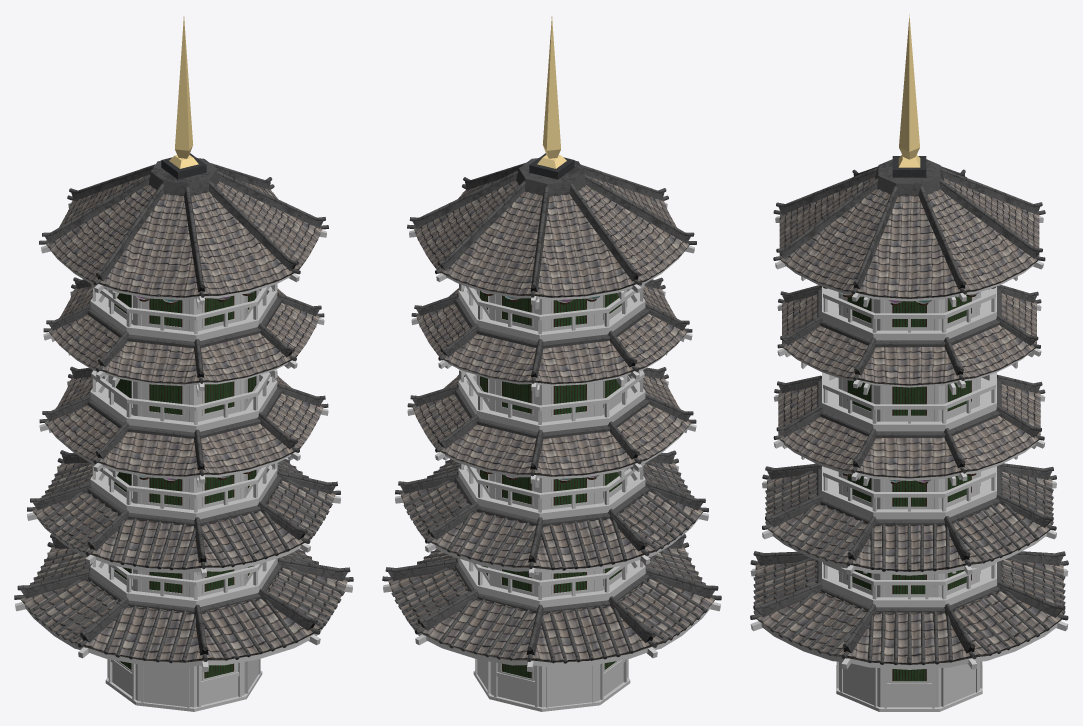
File: bg02_a_build05out.fbx
The picture shows the model from 3 angles, left to right: view 1: azimuth 30°, elevation 25°; view 2: azimuth 150°, elevation 25°; view 3: azimuth 270°, elevation 25°; orthographic projection.
Parts seen in each view (by area): view 1: set_build05-geom-P7, set_build05-geom-P2, set_build05-geom-P3, set_build05-geom-P4, set_build05-geom-P5, set_build05-geom-P8, set_build05-geom-P6; view 2: set_build05-geom-P7, set_build05-geom-P2, set_build05-geom-P3, set_build05-geom-P4, set_build05-geom-P5, set_build05-geom-P8, set_build05-geom-P6; view 3: set_build05-geom-P7, set_build05-geom-P2, set_build05-geom-P3, set_build05-geom-P4, set_build05-geom-P5, set_build05-geom-P8, set_build05-geom-P6.
Boxes of the visible parts, box(x1,y1,x2,y2) form: set_build05-geom-P7: box(20, 175, 347, 662); set_build05-geom-P2: box(14, 158, 353, 663); set_build05-geom-P3: box(15, 192, 352, 711); set_build05-geom-P4: box(114, 290, 256, 678); set_build05-geom-P5: box(25, 250, 338, 667); set_build05-geom-P8: box(169, 16, 198, 168); set_build05-geom-P6: box(161, 153, 206, 179); set_build05-geom-P7: box(388, 176, 715, 662); set_build05-geom-P2: box(382, 158, 721, 663); set_build05-geom-P3: box(383, 192, 720, 711); set_build05-geom-P4: box(479, 290, 621, 678); set_build05-geom-P5: box(398, 250, 710, 667); set_build05-geom-P8: box(537, 16, 566, 168); set_build05-geom-P6: box(529, 153, 574, 179); set_build05-geom-P7: box(755, 177, 1063, 664); set_build05-geom-P2: box(750, 159, 1068, 665); set_build05-geom-P3: box(750, 216, 1068, 711); set_build05-geom-P4: box(847, 294, 971, 681); set_build05-geom-P5: box(761, 264, 1057, 669); set_build05-geom-P8: box(898, 14, 920, 167); set_build05-geom-P6: box(892, 156, 926, 177).
Bounding box in the file's own units: 32.2 × 74.35 × 32.2.
